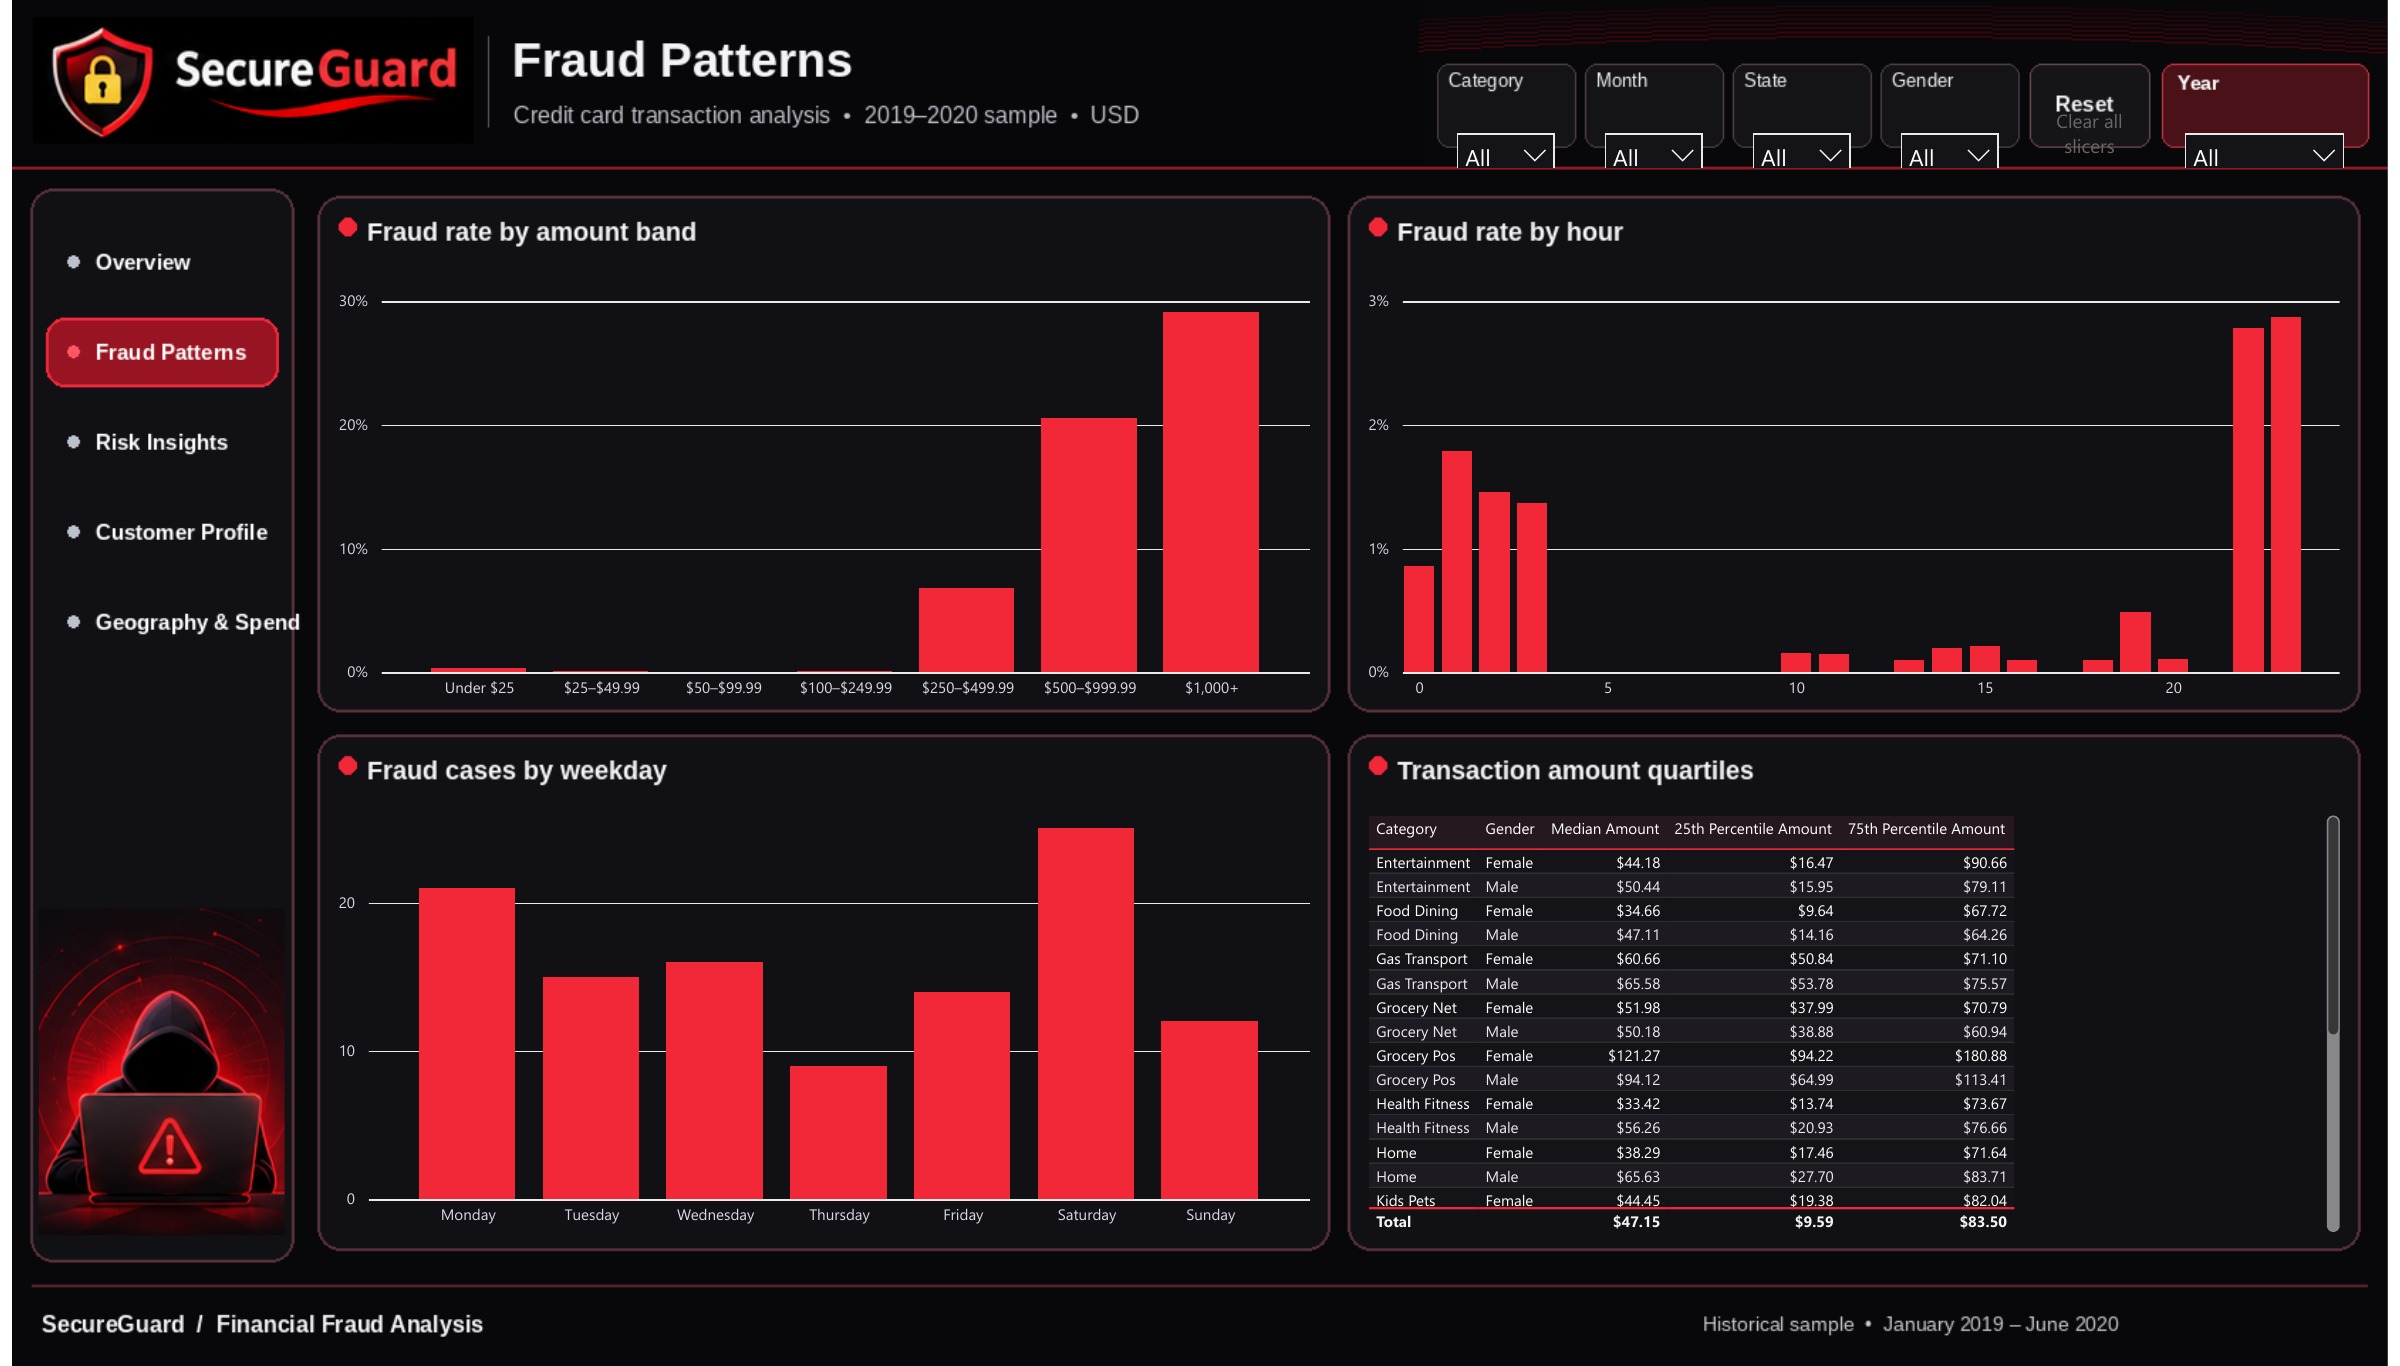

What the dashboard file says about the page in this screenshot:
{"tool":"powerbi","page":{"name":"Fraud Patterns","canvas":[1672,941],"ordinal":1},"visuals":[{"type":"slicer","fields":{"Values":["Transactions.Category"]},"box":[1007,64,89,34],"z":9000},{"type":"slicer","fields":{"Values":["Transactions.Month"]},"box":[1111,64,89,34],"z":10000},{"type":"slicer","fields":{"Values":["Transactions.State"]},"box":[1215,64,89,34],"z":11000},{"type":"slicer","fields":{"Values":["Transactions.Gender"]},"box":[1319,64,89,34],"z":12000},{"type":"actionButton","box":[1420,44,84,57],"z":14000},{"type":"columnChart","fields":{"Category":["Transactions.Amount Band"],"Y":["Transactions.Fraud Rate"]},"box":[224,178,694,303],"z":16000},{"type":"columnChart","fields":{"Category":["Transactions.Hour"],"Y":["Transactions.Fraud Rate"]},"box":[949,178,694,303],"z":18000},{"type":"columnChart","fields":{"Category":["Transactions.Weekday"],"Y":["Transactions.Fraud Cases"]},"box":[224,549,694,303],"z":20000},{"type":"tableEx","fields":{"Values":["Transactions.Category","Transactions.Gender","Transactions.Median Amount","Transactions.25th Percentile Amount","Transactions.75th Percentile Amount"]},"box":[949,549,694,303],"z":22000},{"type":"actionButton","box":[24,157,163,47],"z":95000},{"type":"actionButton","box":[24,219,163,47],"z":95001},{"type":"actionButton","box":[24,281,163,47],"z":95002},{"type":"actionButton","box":[24,343,163,47],"z":95003},{"type":"actionButton","box":[24,405,163,47],"z":95004},{"type":"slicer","fields":{"Values":["Transactions.Year"]},"box":[1519,64,132,34],"z":95150}]}

Visuals, with their boxes in screenshot pixels (x1, y1, x2, y2), scaled from the page's 1672x941 canvas onto the 2400x1366 screenshot:
slicer - Transactions.Category: <bbox>1445, 93, 1573, 142</bbox>
slicer - Transactions.Month: <bbox>1595, 93, 1722, 142</bbox>
slicer - Transactions.State: <bbox>1744, 93, 1872, 142</bbox>
slicer - Transactions.Gender: <bbox>1893, 93, 2021, 142</bbox>
actionButton: <bbox>2038, 64, 2159, 147</bbox>
columnChart - Transactions.Amount Band x Transactions.Fraud Rate: <bbox>322, 258, 1318, 698</bbox>
columnChart - Transactions.Hour x Transactions.Fraud Rate: <bbox>1362, 258, 2358, 698</bbox>
columnChart - Transactions.Weekday x Transactions.Fraud Cases: <bbox>322, 797, 1318, 1237</bbox>
tableEx - Transactions.Category x Transactions.Gender: <bbox>1362, 797, 2358, 1237</bbox>
actionButton: <bbox>34, 228, 268, 296</bbox>
actionButton: <bbox>34, 318, 268, 386</bbox>
actionButton: <bbox>34, 408, 268, 476</bbox>
actionButton: <bbox>34, 498, 268, 566</bbox>
actionButton: <bbox>34, 588, 268, 656</bbox>
slicer - Transactions.Year: <bbox>2180, 93, 2370, 142</bbox>
